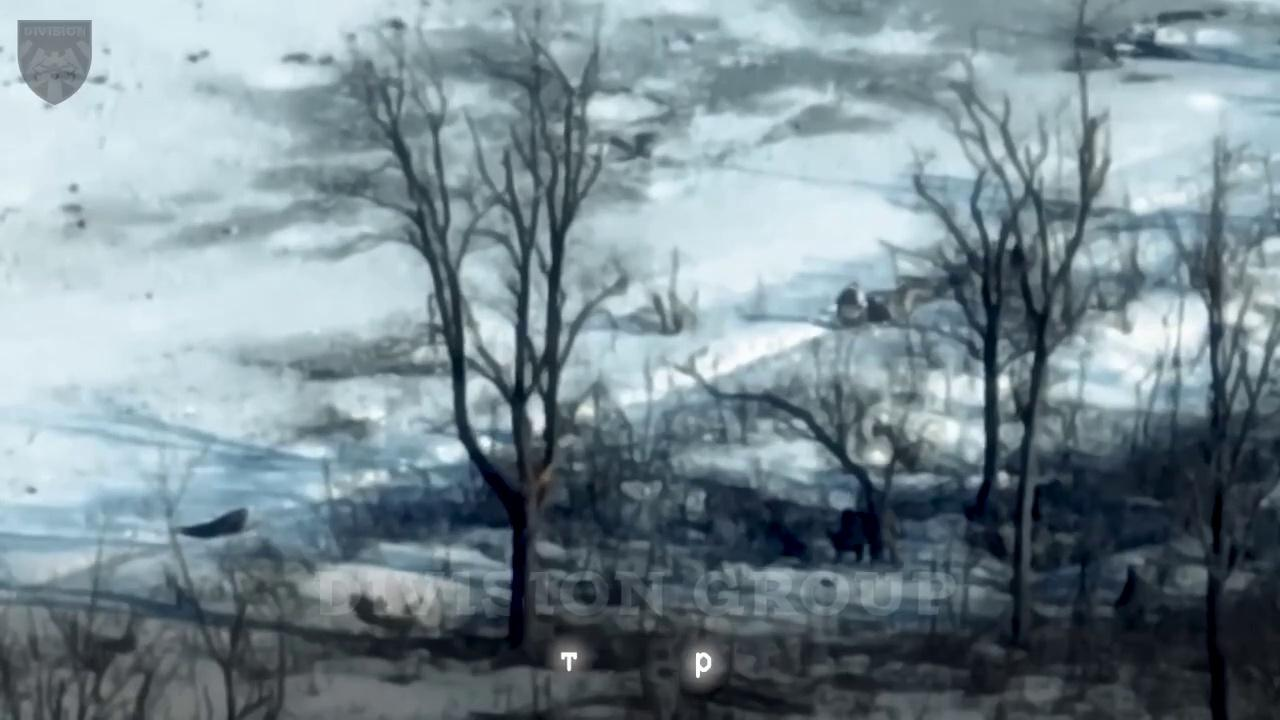person: (826, 502, 864, 563), (872, 502, 899, 572)
